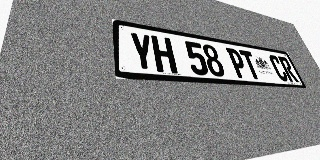5: (184, 41, 210, 76)
8: (201, 43, 226, 77)
C: (268, 54, 290, 81)
H: (151, 35, 178, 73)
P: (225, 47, 250, 79)
R: (277, 56, 299, 82)
T: (239, 50, 262, 79)
Y: (129, 31, 156, 72)
